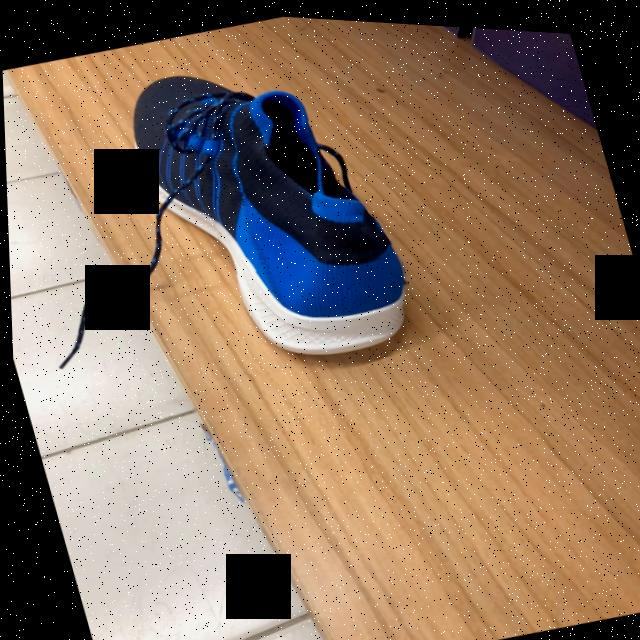shoe: (132, 74, 406, 354)
